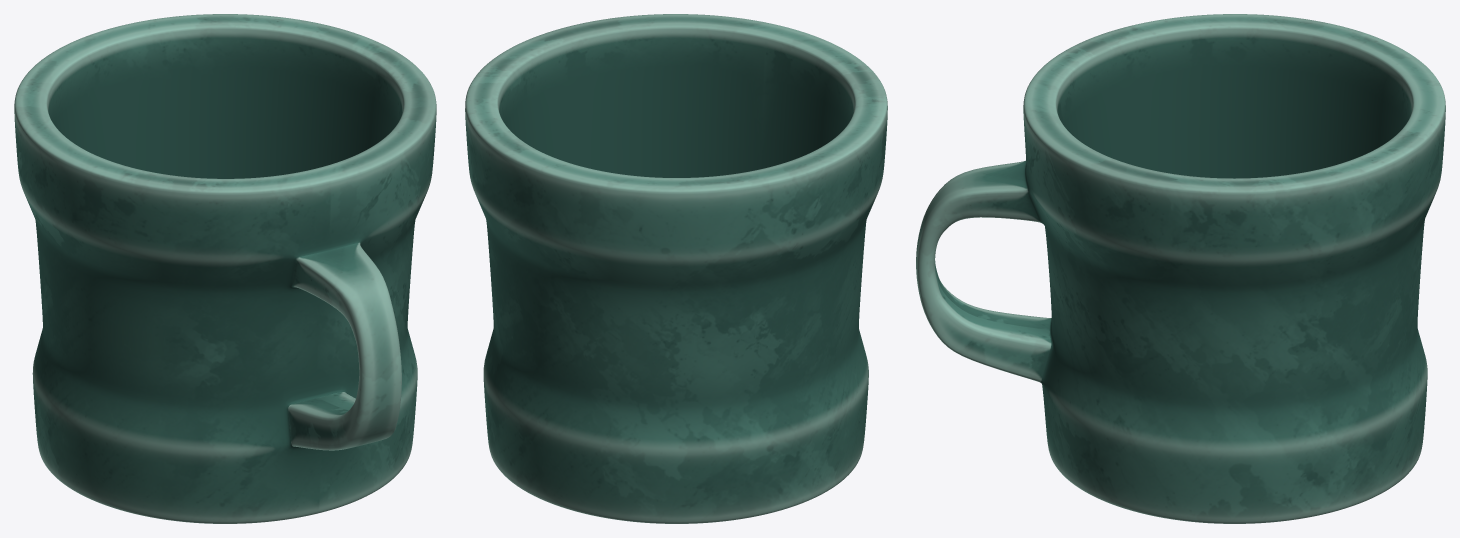
The model's file is cup_02 (1).glb.
3 renders of one model, left to right at view 1: azimuth 30°, elevation 25°; view 2: azimuth 150°, elevation 25°; view 3: azimuth 270°, elevation 25°, orthographic.
Size of the model in its own units: 0.2106 by 0.1902 by 0.2641.
1 material, 1 textured.
